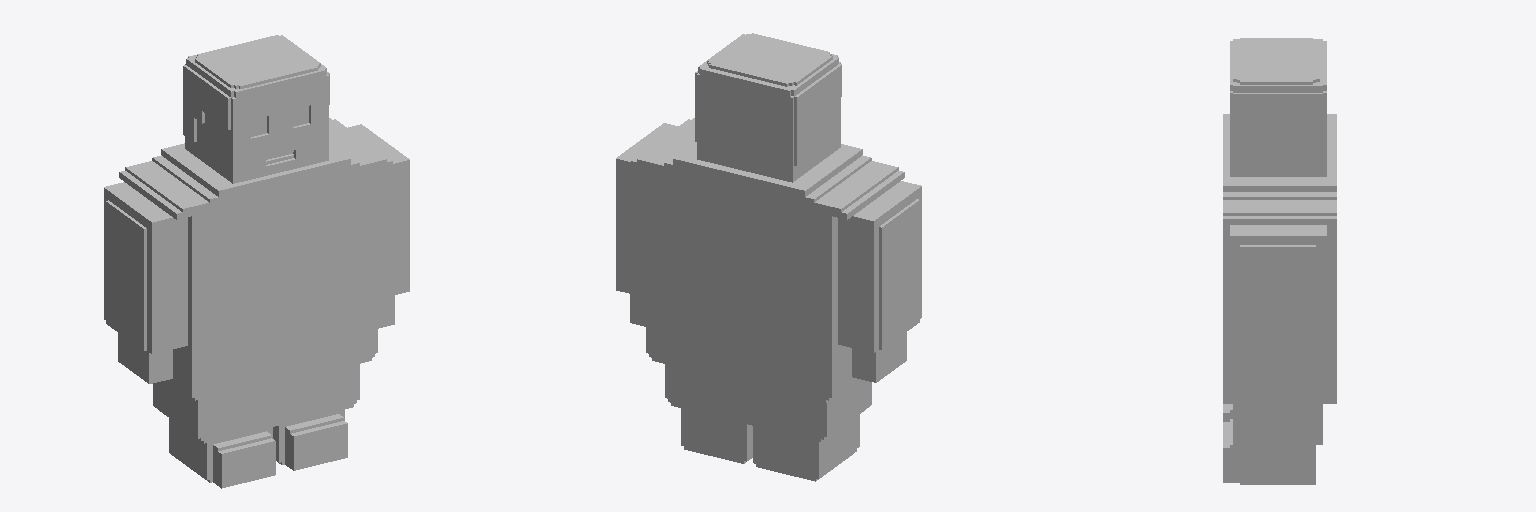
Rendered from human.obj.
3 renders of one model, left to right at view 1: azimuth 30°, elevation 25°; view 2: azimuth 150°, elevation 25°; view 3: azimuth 270°, elevation 25°, orthographic.
Visible parts, largest first — view 1: human; view 2: human; view 3: human.
Part boxes in pixels (x1,y1,x2,y2): human: (104,35,409,488); human: (616,33,921,481); human: (1223,38,1336,484).
Bounding box in the file's own units: 88 × 125 × 33.